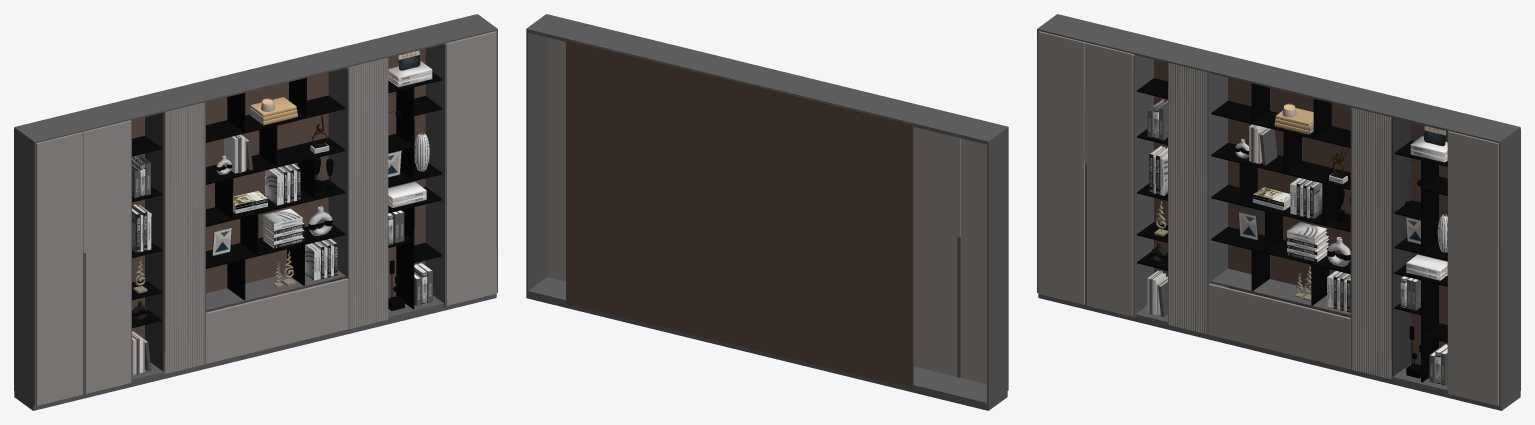
3 views of the same model, side by side, from view 1: azimuth 30°, elevation 25°; view 2: azimuth 150°, elevation 25°; view 3: azimuth 330°, elevation 25° (orthographic).
Parts seen in each view (by area): view 1: SK_Solid_3@x5_y1_z1, SK_Solid_1@x5_y1_z1, SK_Solid_10@x5_y1_z1, SK_Solid_3@x6_y1_z1, SK_Solid_2@x5_y1_z1, SK_Solid_3@x2_y1_z1, SK_Solid_3@x4_y1_z1, SK_Solid_1@x1_y1_z1, SK_Solid_19@x5_y1_z1, SK_Solid_3@x3_y1_z1, SK_Solid_41@x5_y1_z1, SK_Solid_13@x5_y1_z1 (+18 smaller); view 2: SK_Solid_2@x5_y1_z1, SK_Solid_3@x4_y1_z1, SK_Solid_1@x5_y1_z1, SK_Solid_1@x1_y1_z1, SK_Solid_1@x7_y1_z1, SK_Solid_3@x2_y1_z1, SK_Solid_2@x4_y1_z1, SK_Solid_3@x6_y1_z1, SK_Solid_3@x3_y1_z1, SK_Solid_2@x6_y1_z1, SK_Solid_1@x6_y1_z1, SK_Solid_1@x2_y1_z1 (+4 smaller); view 3: SK_Solid_3@x5_y1_z1, SK_Solid_1@x5_y1_z1, SK_Solid_10@x5_y1_z1, SK_Solid_3@x6_y1_z1, SK_Solid_2@x5_y1_z1, SK_Solid_3@x4_y1_z1, SK_Solid_3@x2_y1_z1, SK_Solid_1@x7_y1_z1, SK_Solid_19@x5_y1_z1, SK_Solid_3@x3_y1_z1, SK_Solid_41@x5_y1_z1, SK_Solid_13@x5_y1_z1 (+17 smaller).
Part boxes in pixels (bbox=[...]): SK_Solid_3@x5_y1_z1: bbox=[127, 42, 451, 383]; SK_Solid_1@x5_y1_z1: bbox=[107, 25, 451, 388]; SK_Solid_10@x5_y1_z1: bbox=[132, 72, 442, 327]; SK_Solid_3@x6_y1_z1: bbox=[451, 31, 494, 304]; SK_Solid_2@x5_y1_z1: bbox=[131, 49, 425, 353]; SK_Solid_3@x2_y1_z1: bbox=[40, 133, 78, 404]; SK_Solid_3@x4_y1_z1: bbox=[89, 121, 127, 392]; SK_Solid_1@x1_y1_z1: bbox=[14, 125, 40, 410]; SK_Solid_19@x5_y1_z1: bbox=[145, 112, 164, 371]; SK_Solid_3@x3_y1_z1: bbox=[78, 130, 89, 395]; SK_Solid_41@x5_y1_z1: bbox=[262, 165, 334, 280]; SK_Solid_13@x5_y1_z1: bbox=[262, 163, 337, 279]; SK_Solid_2@x5_y1_z1: bbox=[572, 41, 895, 384]; SK_Solid_3@x4_y1_z1: bbox=[916, 127, 953, 375]; SK_Solid_1@x5_y1_z1: bbox=[573, 25, 915, 388]; SK_Solid_1@x1_y1_z1: bbox=[983, 125, 1008, 410]; SK_Solid_1@x7_y1_z1: bbox=[526, 14, 549, 298]; SK_Solid_3@x2_y1_z1: bbox=[965, 139, 986, 384]; SK_Solid_2@x4_y1_z1: bbox=[896, 120, 913, 388]; SK_Solid_3@x6_y1_z1: bbox=[550, 38, 565, 281]; SK_Solid_3@x3_y1_z1: bbox=[953, 136, 964, 378]; SK_Solid_2@x6_y1_z1: bbox=[566, 40, 572, 305]; SK_Solid_1@x6_y1_z1: bbox=[530, 15, 592, 309]; SK_Solid_1@x2_y1_z1: bbox=[945, 116, 1002, 409]; SK_Solid_3@x5_y1_z1: bbox=[1129, 53, 1453, 394]; SK_Solid_1@x5_y1_z1: bbox=[1129, 36, 1473, 399]; SK_Solid_10@x5_y1_z1: bbox=[1137, 78, 1447, 382]; SK_Solid_3@x6_y1_z1: bbox=[1453, 132, 1495, 405]; SK_Solid_2@x5_y1_z1: bbox=[1154, 59, 1447, 364]; SK_Solid_3@x4_y1_z1: bbox=[1091, 44, 1129, 315]; SK_Solid_3@x2_y1_z1: bbox=[1042, 32, 1079, 303]; SK_Solid_1@x7_y1_z1: bbox=[1496, 126, 1520, 410]; SK_Solid_19@x5_y1_z1: bbox=[1391, 118, 1411, 376]; SK_Solid_3@x3_y1_z1: bbox=[1079, 41, 1091, 306]; SK_Solid_41@x5_y1_z1: bbox=[1287, 178, 1350, 311]; SK_Solid_13@x5_y1_z1: bbox=[1286, 179, 1350, 312].
Bounding box in the file's own units: 4.91 × 2.73 × 0.3939.
Materials: 56 (29 with a texture image).
